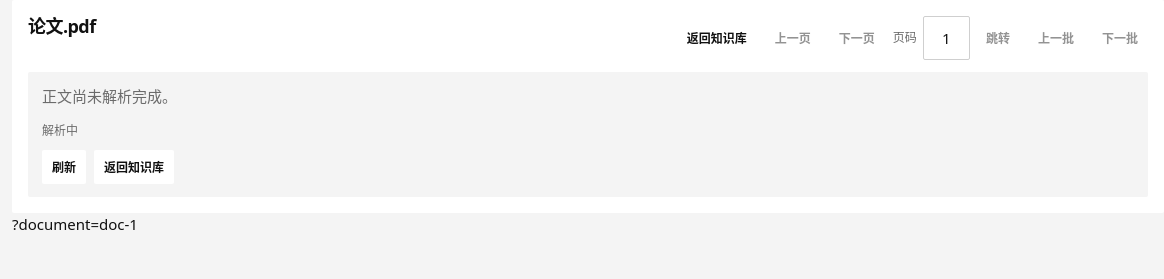
Test: DocumentReader › reports the real document state after a 409, including needs_ocr
The image size is (1164, 279).
Expected: the text "解析中" is shown, [42,122,78,138]
Click the button "刷新".
click(64, 166)  # box [42,150,86,184]
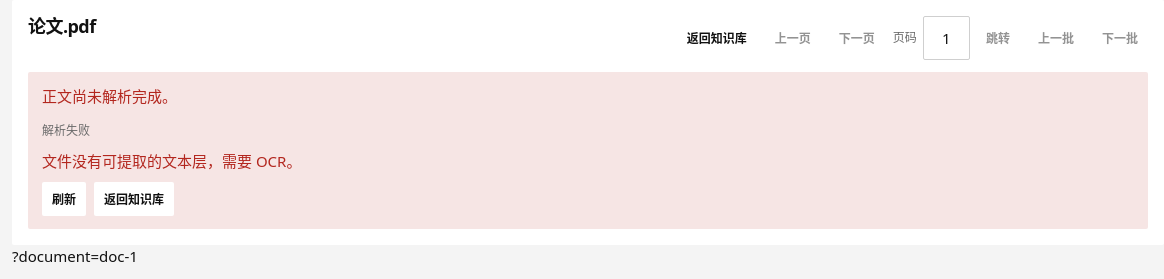
Expected: the text "文件没有可提取的文本层，需要 OCR。" is shown, [42,150,301,170]
Expected: the text "解析失败" is shown, [42,122,90,138]
